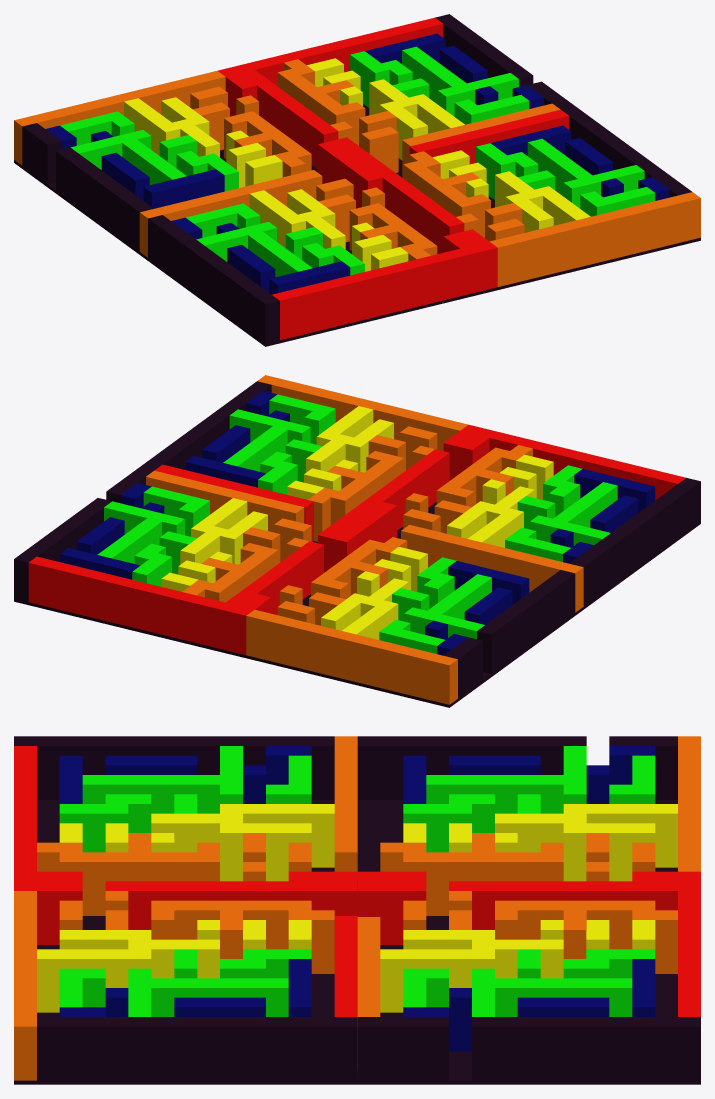
Rendered from maze.obj.
3 views of the same model, one above another, from view 1: azimuth 30°, elevation 25°; view 2: azimuth 150°, elevation 25°; view 3: azimuth 270°, elevation 25° (orthographic). The views are drawn at different scales.
Visible parts, largest first — view 1: SmoothBlockModel14, SmoothBlockModel52, SmoothBlockModel30, SmoothBlockModel94, SmoothBlockModel84, SmoothBlockModel110, SmoothBlockModel63, SmoothBlockModel20, SmoothBlockModel127, SmoothBlockModel46, SmoothBlockModel126, SmoothBlockModel62 (+76 smaller); view 2: SmoothBlockModel84, SmoothBlockModel110, SmoothBlockModel94, SmoothBlockModel30, SmoothBlockModel20, SmoothBlockModel52, SmoothBlockModel14, SmoothBlockModel63, SmoothBlockModel116, SmoothBlockModel127, SmoothBlockModel126, SmoothBlockModel62 (+81 smaller); view 3: SmoothBlockModel62, SmoothBlockModel126, SmoothBlockModel94, SmoothBlockModel63, SmoothBlockModel30, SmoothBlockModel64, SmoothBlockModel128, SmoothBlockModel127, SmoothBlockModel3, SmoothBlockModel67, SmoothBlockModel52, SmoothBlockModel114 (+95 smaller).
Part boxes in pixels (x1,y1,x2,y2): SmoothBlockModel14: (272, 245, 483, 340); SmoothBlockModel52: (489, 192, 700, 286); SmoothBlockModel30: (181, 239, 279, 343); SmoothBlockModel94: (56, 147, 153, 251); SmoothBlockModel84: (14, 71, 225, 165); SmoothBlockModel110: (232, 17, 443, 86); SmoothBlockModel63: (358, 155, 464, 253); SmoothBlockModel20: (139, 170, 322, 257); SmoothBlockModel127: (240, 70, 338, 169); SmoothBlockModel46: (409, 109, 568, 164); SmoothBlockModel126: (435, 14, 533, 86); SmoothBlockModel62: (561, 106, 658, 170); SmoothBlockModel84: (246, 609, 457, 704); SmoothBlockModel110: (28, 556, 239, 651); SmoothBlockModel94: (477, 570, 575, 673); SmoothBlockModel30: (603, 478, 700, 581); SmoothBlockModel20: (401, 524, 583, 612); SmoothBlockModel52: (257, 375, 467, 450); SmoothBlockModel14: (475, 428, 685, 500); SmoothBlockModel63: (343, 449, 449, 530); SmoothBlockModel116: (146, 470, 304, 532); SmoothBlockModel127: (226, 541, 323, 614); SmoothBlockModel126: (14, 498, 111, 601); SmoothBlockModel62: (140, 405, 237, 470); SmoothBlockModel62: (128, 1017, 357, 1080); SmoothBlockModel126: (472, 1017, 700, 1080); SmoothBlockModel94: (357, 736, 586, 799); SmoothBlockModel63: (105, 881, 357, 929); SmoothBlockModel30: (14, 736, 242, 799); SmoothBlockModel64: (37, 1017, 128, 1080); SmoothBlockModel128: (357, 1017, 448, 1080); SmoothBlockModel127: (449, 881, 677, 929); SmoothBlockModel3: (59, 852, 197, 915); SmoothBlockModel67: (403, 852, 540, 915); SmoothBlockModel52: (14, 891, 36, 1080); SmoothBlockModel114: (380, 949, 494, 1012).
Size of the model in its own units: 180 by 16.8 by 180.
